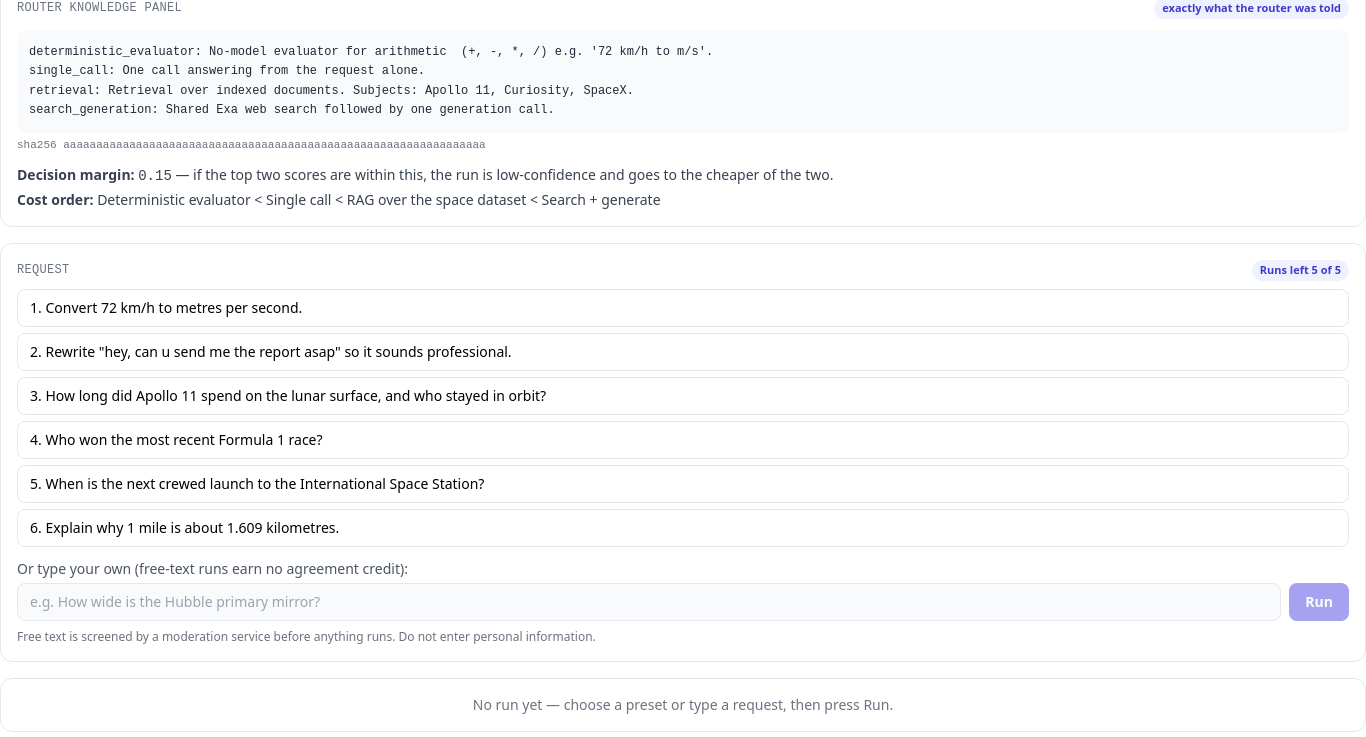
it: a routed preset run › shows scores as 0–1 numbers, never percentages
Click the button "next crewed launch" at [265, 483], box [17,464,1349,502]
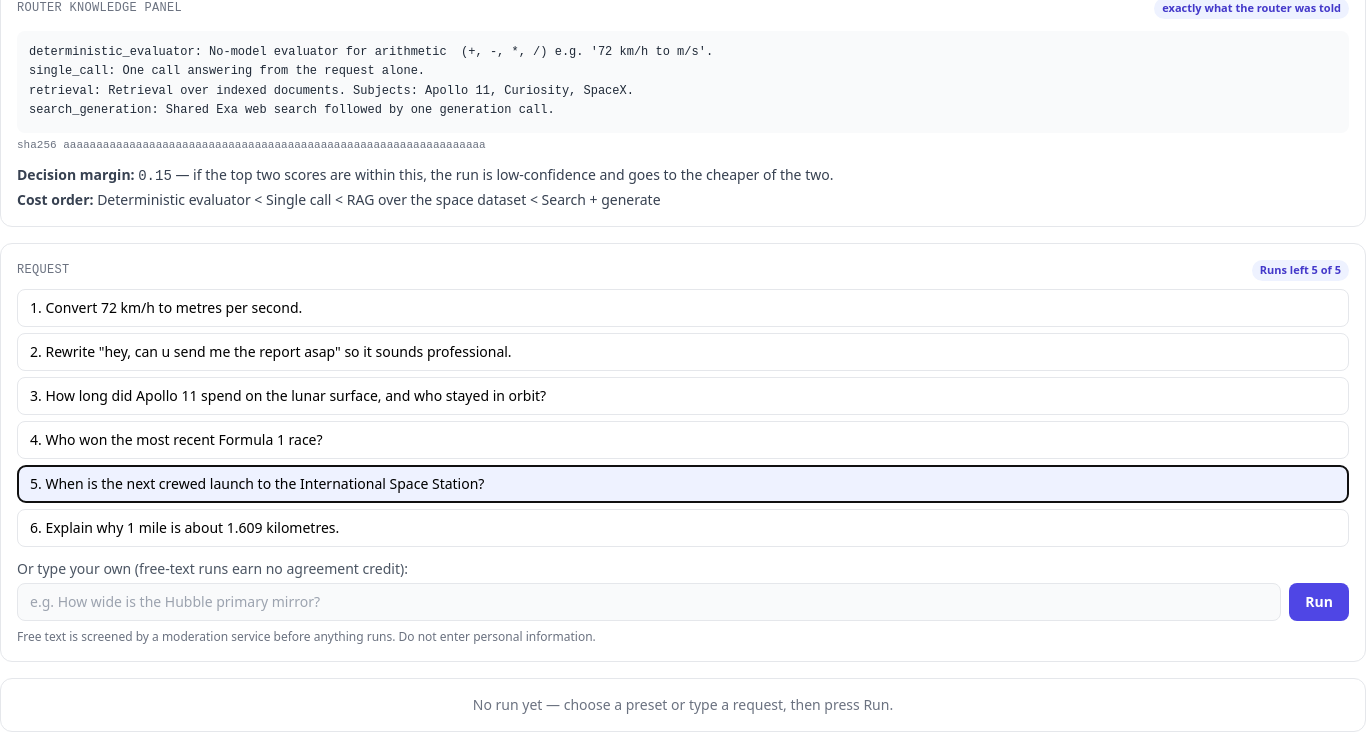
Click the button "Run" at [1319, 602], box [1289,582,1349,620]
(page scrolled)
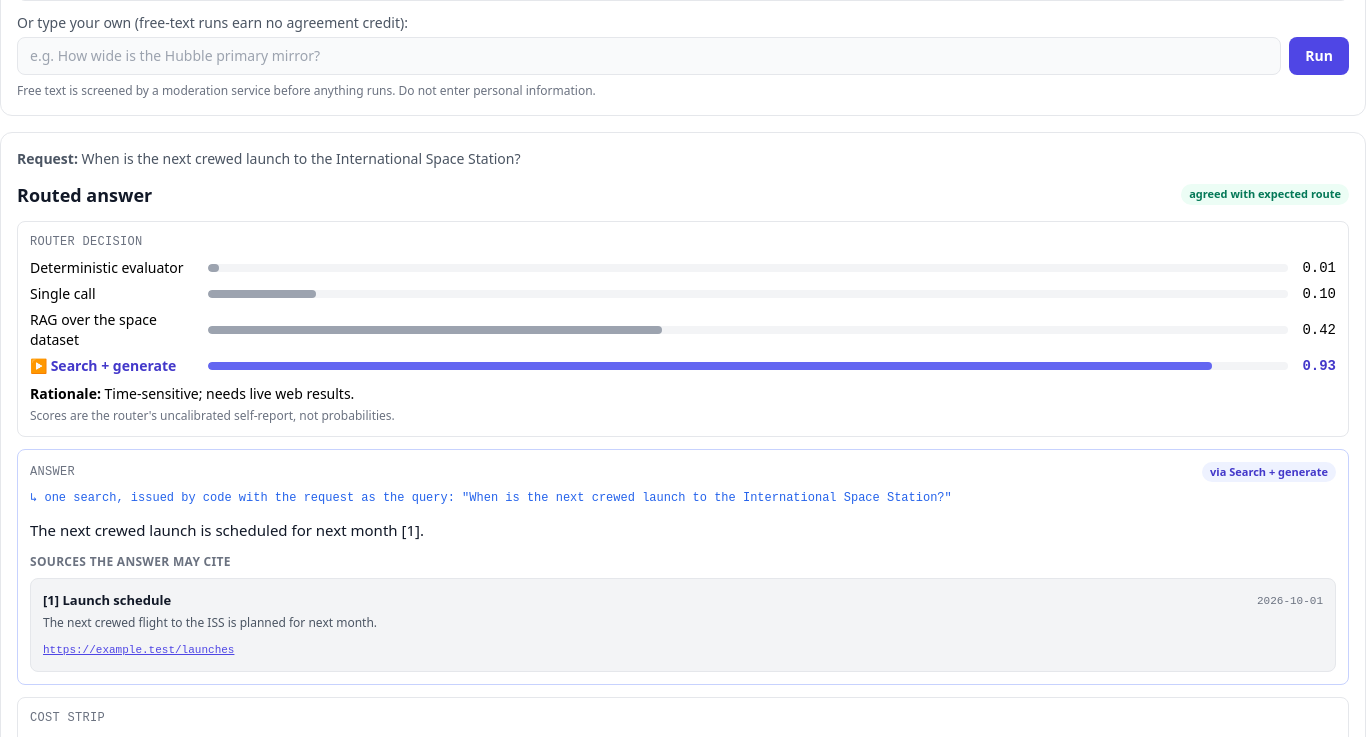
Expected: the list item with test id "score-search_generation" shows "0.93", [1302,358,1336,374]
